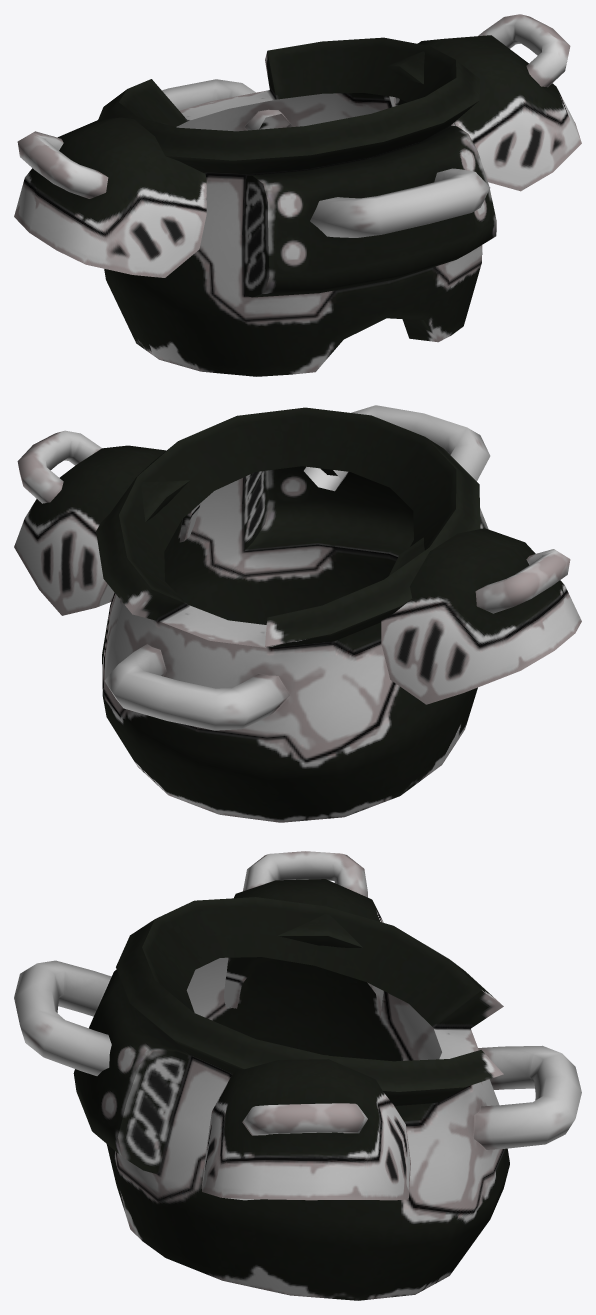
Rendered from IG_Armor_SBossPhysical_ResPoison.fbx.
3 renders of one model, top to bottom at view 1: azimuth 30°, elevation 25°; view 2: azimuth 150°, elevation 25°; view 3: azimuth 270°, elevation 25°, orthographic. The views are drawn at different scales.
Parts seen in each view (by area): view 1: Boss_Horsemen_T_Body 1; view 2: Boss_Horsemen_T_Body 1; view 3: Boss_Horsemen_T_Body 1.
Boxes of the visible parts, left/top/right/bottom form: Boss_Horsemen_T_Body 1: left=14, top=14, right=581, bottom=376; Boss_Horsemen_T_Body 1: left=14, top=405, right=581, bottom=822; Boss_Horsemen_T_Body 1: left=14, top=851, right=581, bottom=1300.
Bounding box in the file's own units: 1.17 × 0.6137 × 1.05.
1 material, 1 textured.
